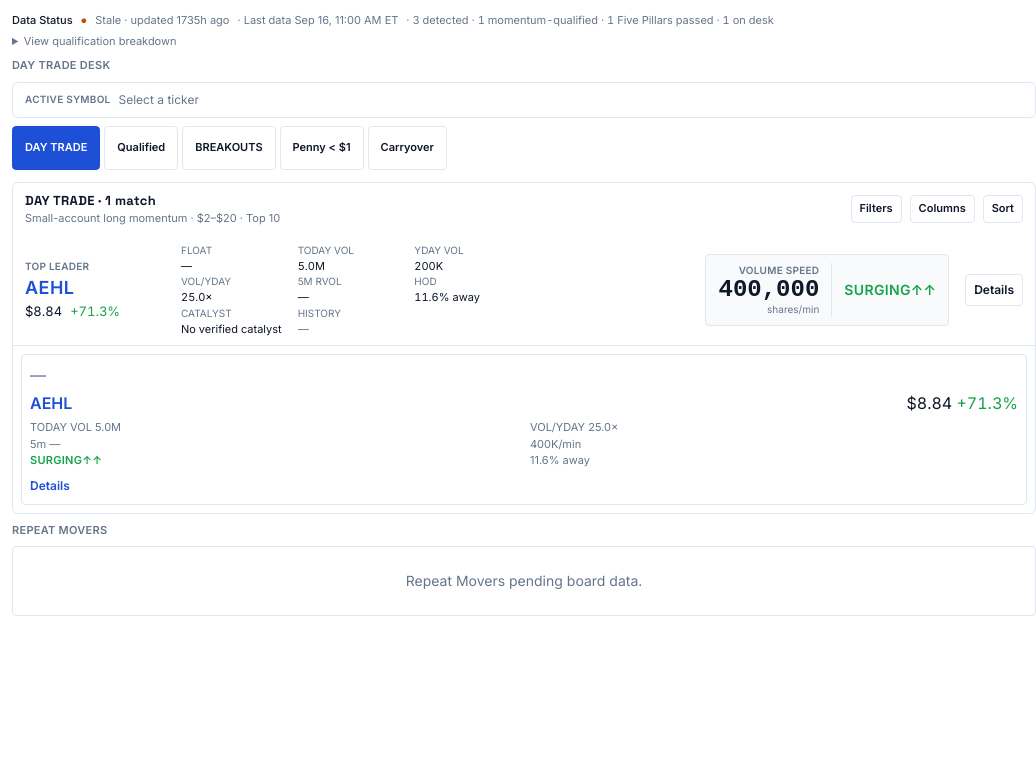
Scenario: Radar workspace layout › shows one mobile panel at a time
The width and height of the screenshot is (1036, 780).
Expected: the element with test id "radar-mobile-tabs" is shown, [12,126,447,170]
Expected: the element with test id "radar-panel-day_trade" is shown, [12,182,1035,514]
Click the element that starts with "AEHL".
click(524, 429)  # box [21,354,1027,504]
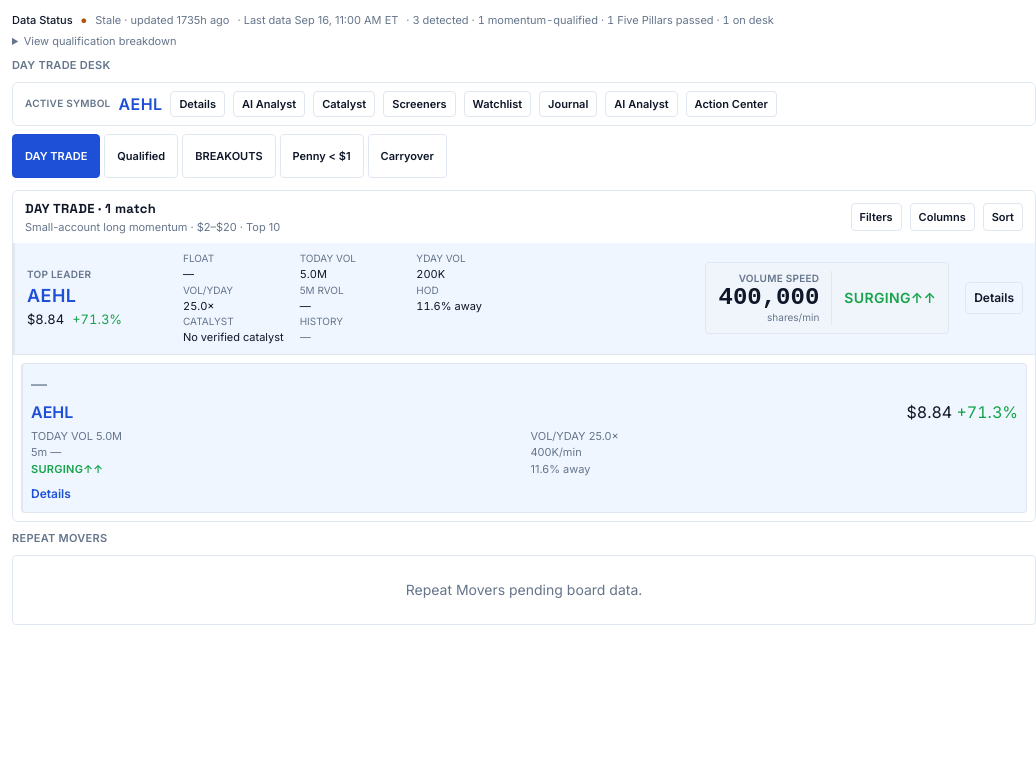
Click the tab "Penny < $1".
click(322, 156)  # box [280,134,364,178]
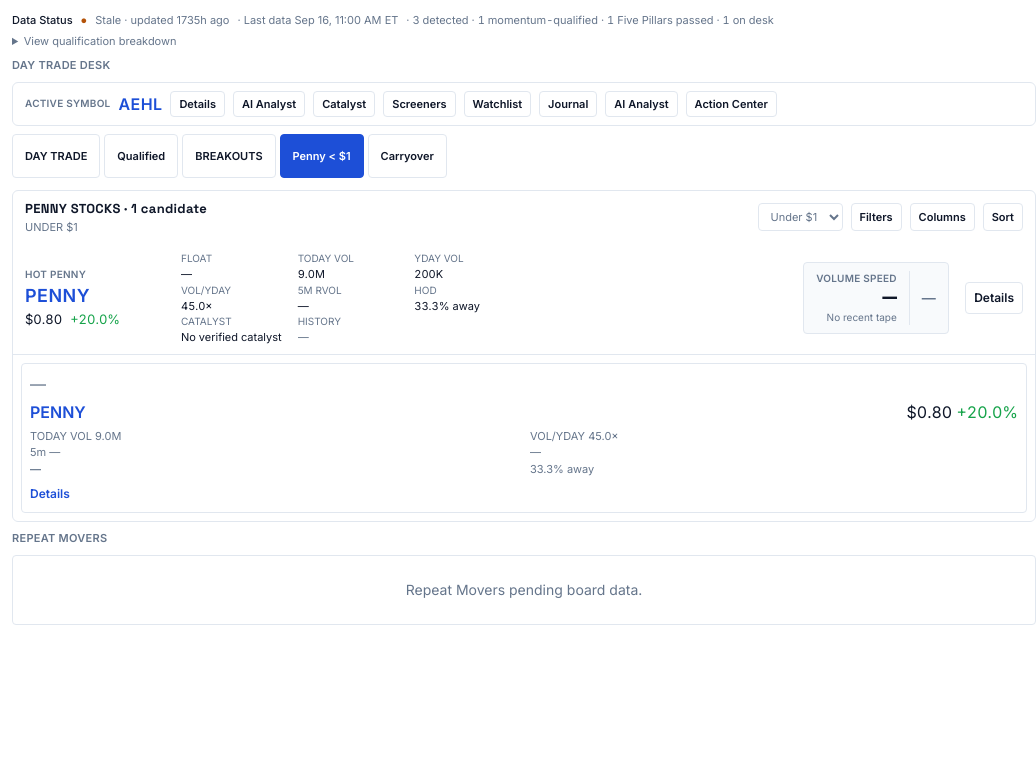
Expected: the text "AEHL" is shown, [118,92,162,116]
Click the tab "DAY TRADE".
click(56, 156)  # box [12,134,100,178]
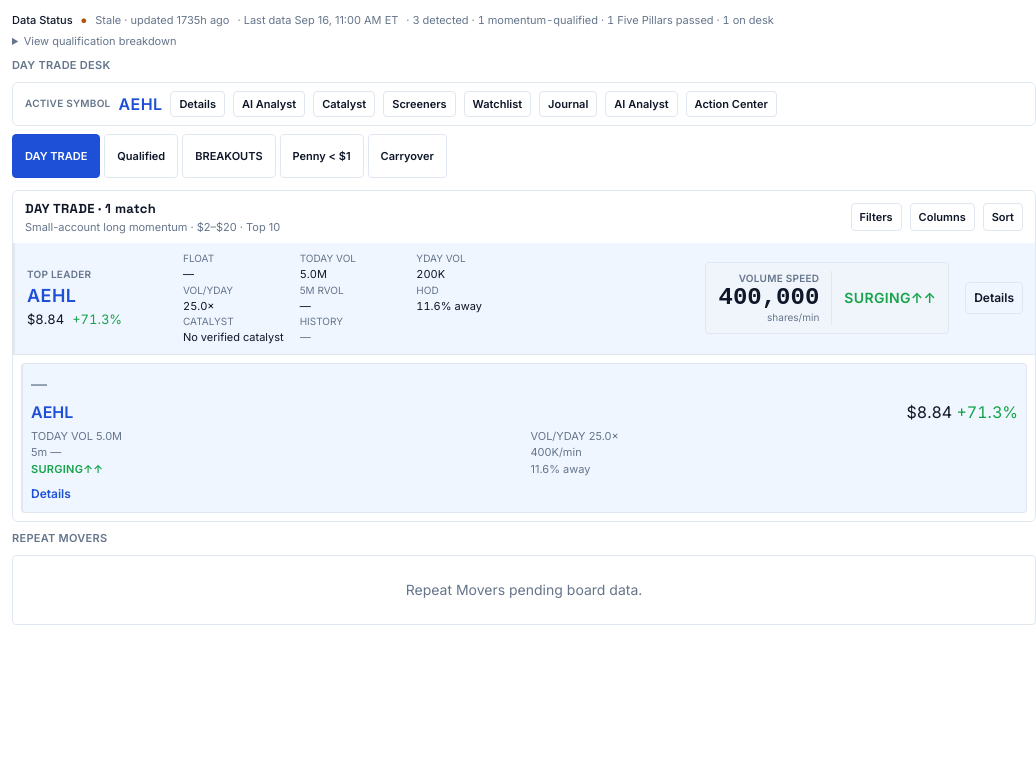
Now the element with test id "radar-panel-penny" is gone
